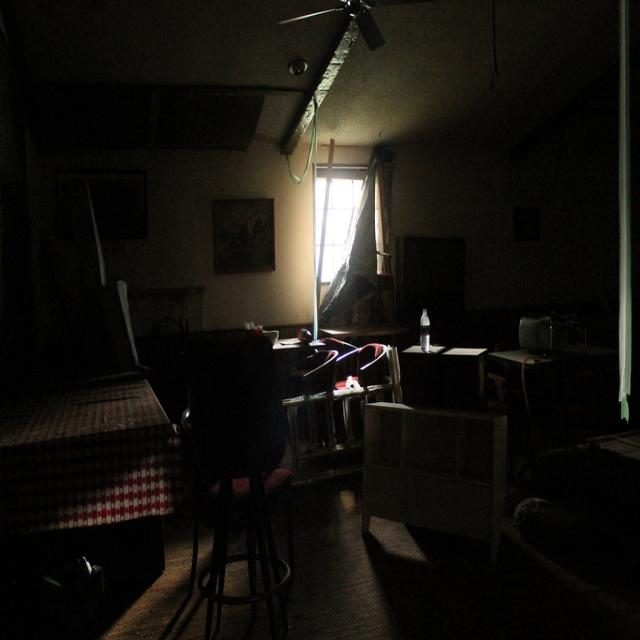Table: (0, 355, 184, 633), (356, 389, 515, 562)
chair: (177, 319, 296, 586)
